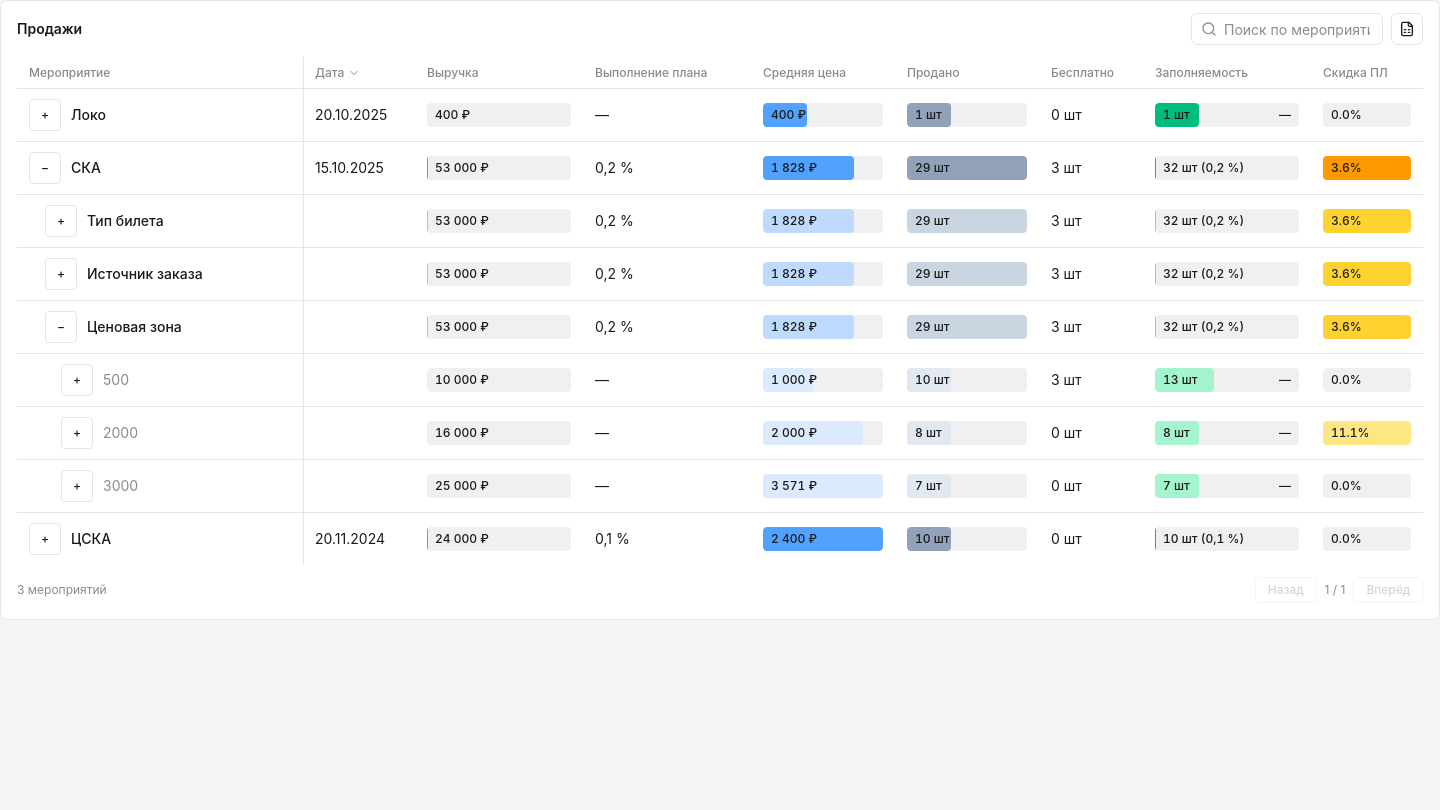
Test: MatchSalesTable integration (E2E stand-in) › expands a price zone into sector rows with the same columns
Expected: the text "VIP" is not shown
What coordinates should you click on to do the following:
click the button "+" next to "3000"
I would click on:
 (77, 486)
Its box is [61,470,93,502].
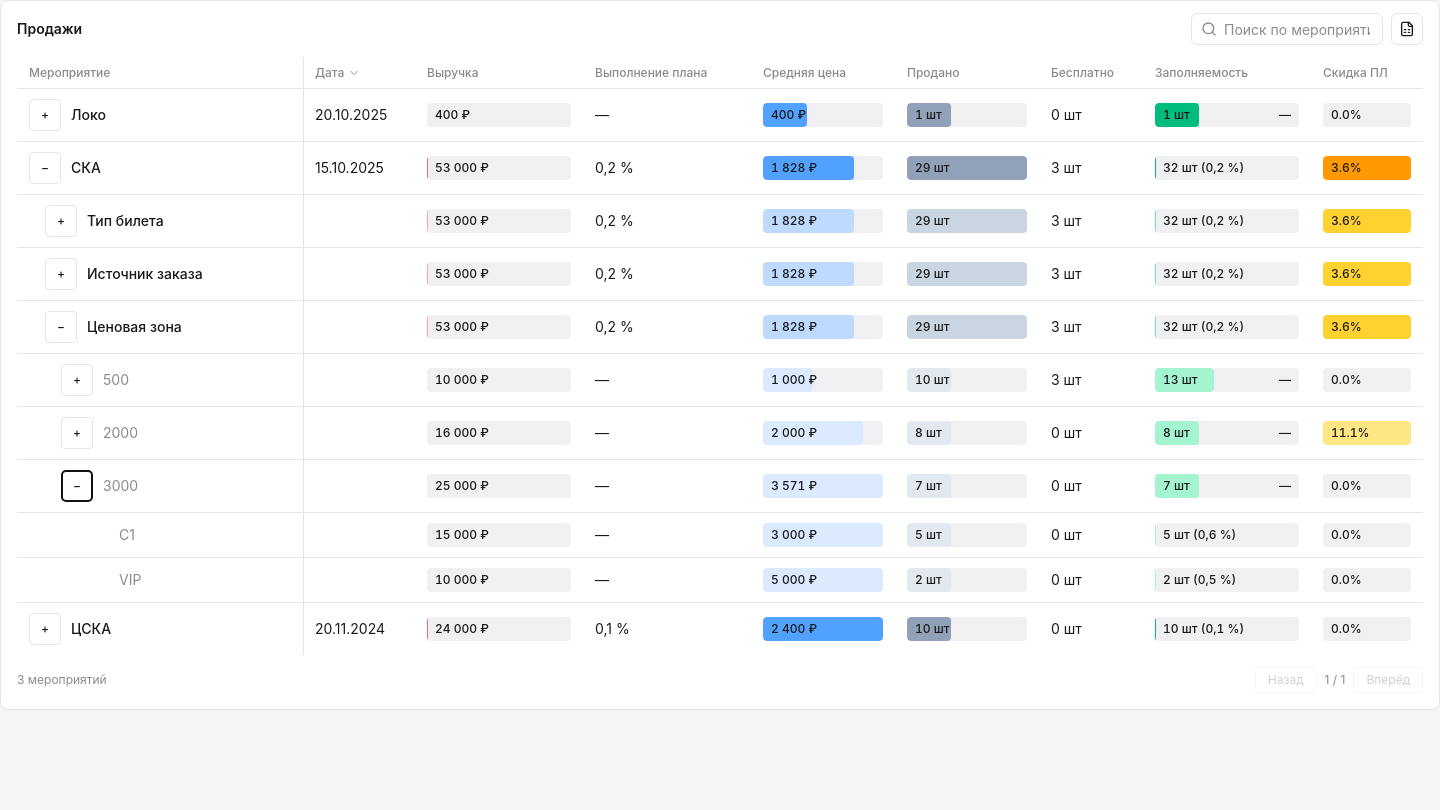
Now the text "VIP" is shown, box [119,570,141,590]
Now the text "—" in the row of "VIP" is shown, box [595,571,609,588]
